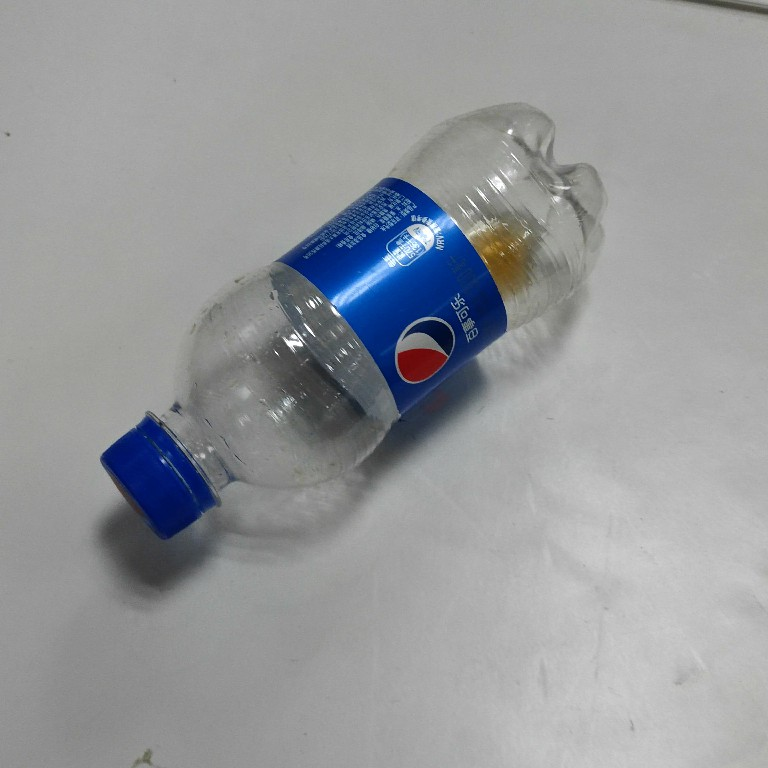bottle: (94, 96, 613, 545)
